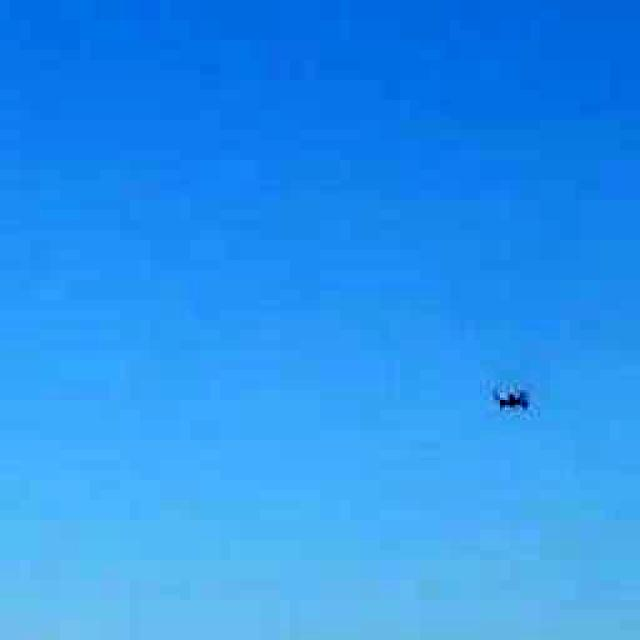bird: (456, 360, 564, 430)
